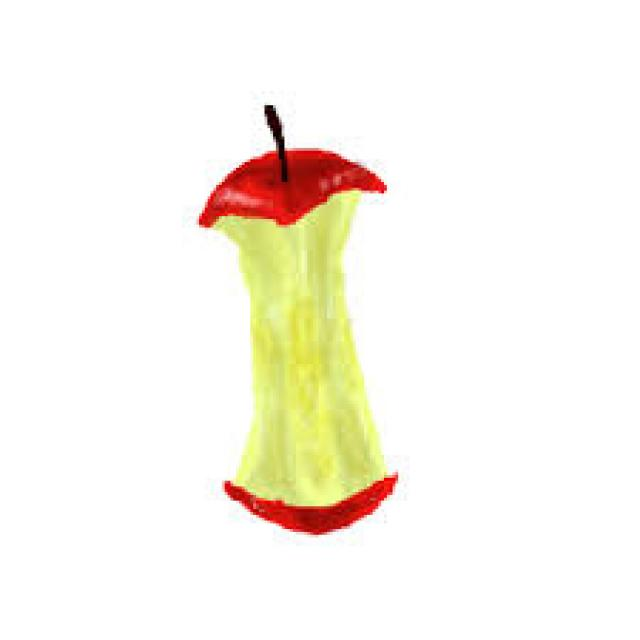organic waste: (197, 100, 396, 534)
